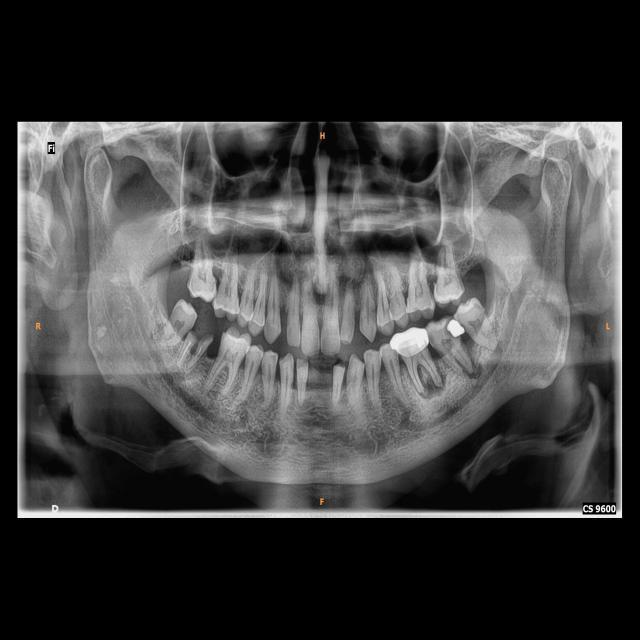dolgu: (444, 314, 470, 342)
kanal-tedavisi: (178, 343, 204, 376)
kaplama: (386, 326, 432, 356)
kirik: (183, 322, 216, 353)
kok-enfeksiyonu: (412, 370, 449, 400), (458, 354, 488, 386)
